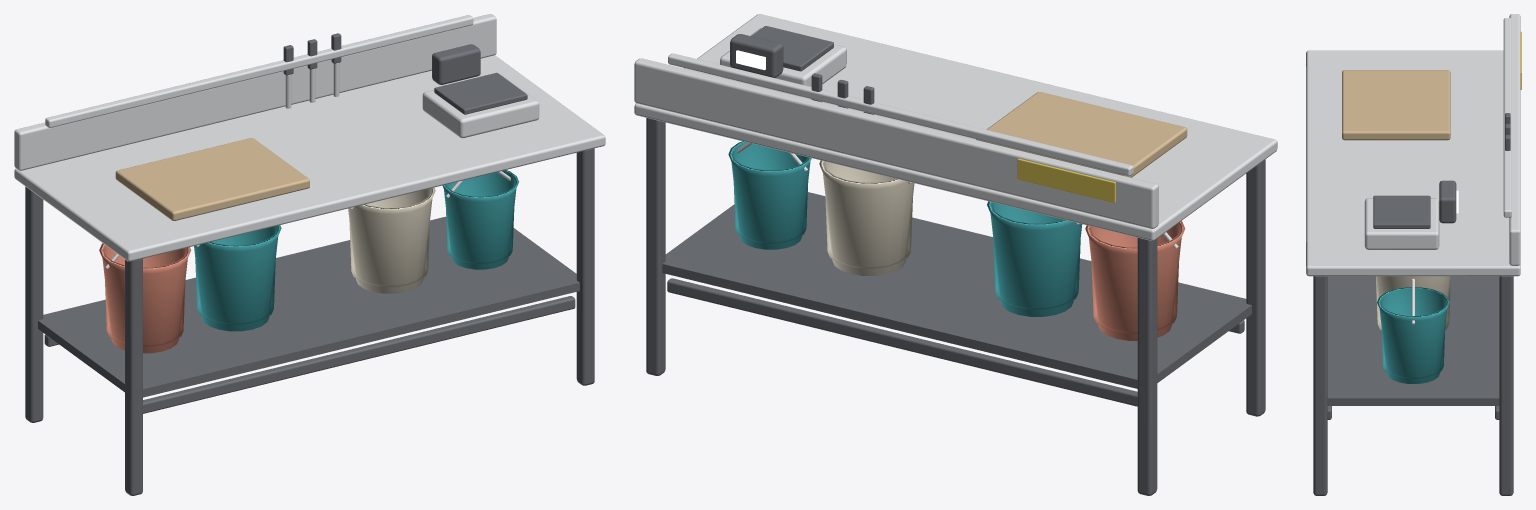
The model's file is public-aquarium-and-marine-centre-feed-prep-bench-635b6b50__34180.glb.
3 renders of one model, left to right at view 1: azimuth 30°, elevation 25°; view 2: azimuth 150°, elevation 25°; view 3: azimuth 270°, elevation 25°, orthographic. The views are drawn at different scales.
Parts seen in each view (by area): view 1: feed-prep-bench; view 2: feed-prep-bench; view 3: feed-prep-bench.
Boxes of the visible parts, x1,y1,x2,y2 form: feed-prep-bench: (14,14,605,495); feed-prep-bench: (634,14,1277,495); feed-prep-bench: (1306,14,1521,495).
Bounding box in the file's own units: 1.8 × 1.12 × 0.754.
